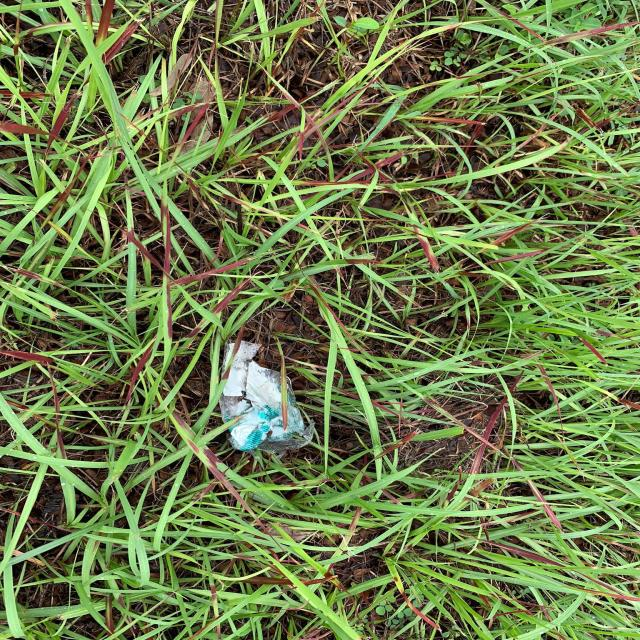litter: (220, 339, 313, 453)
